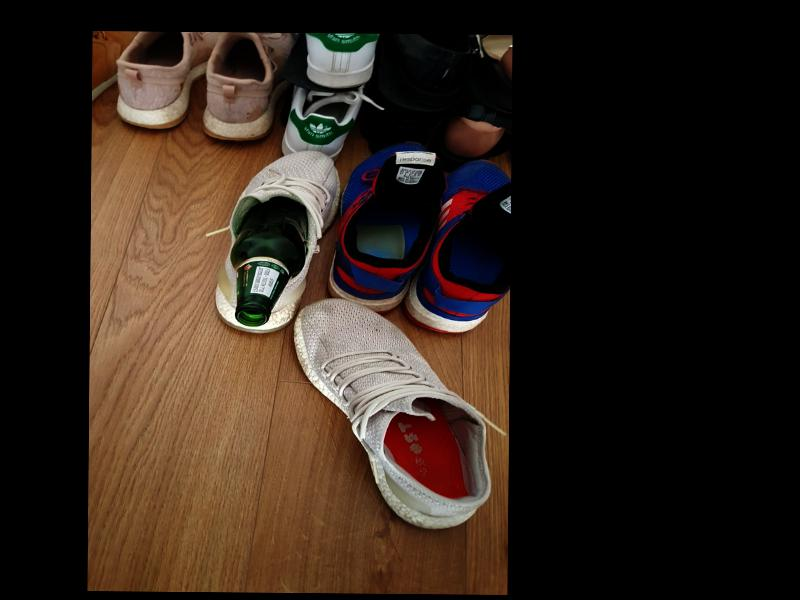Beer: (230, 197, 309, 327)
